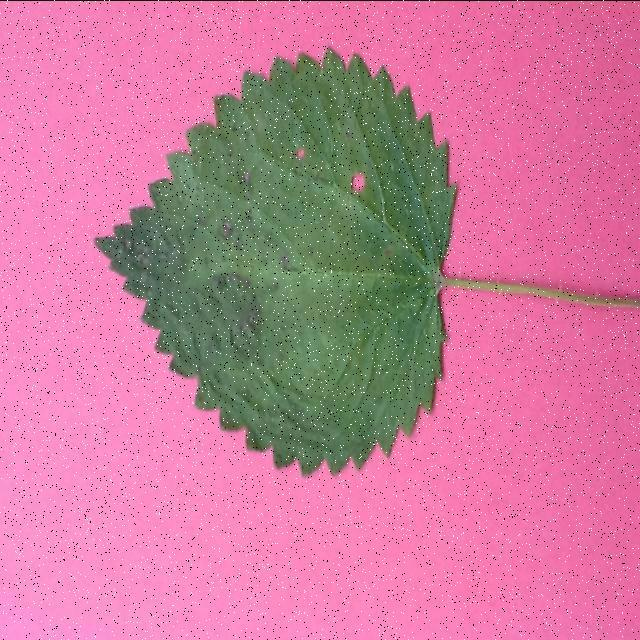foliage: (91, 48, 640, 482)
